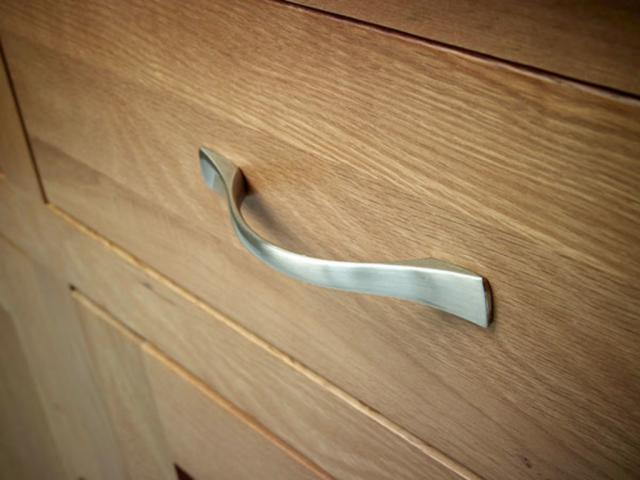Door-handle: (197, 142, 493, 328)
